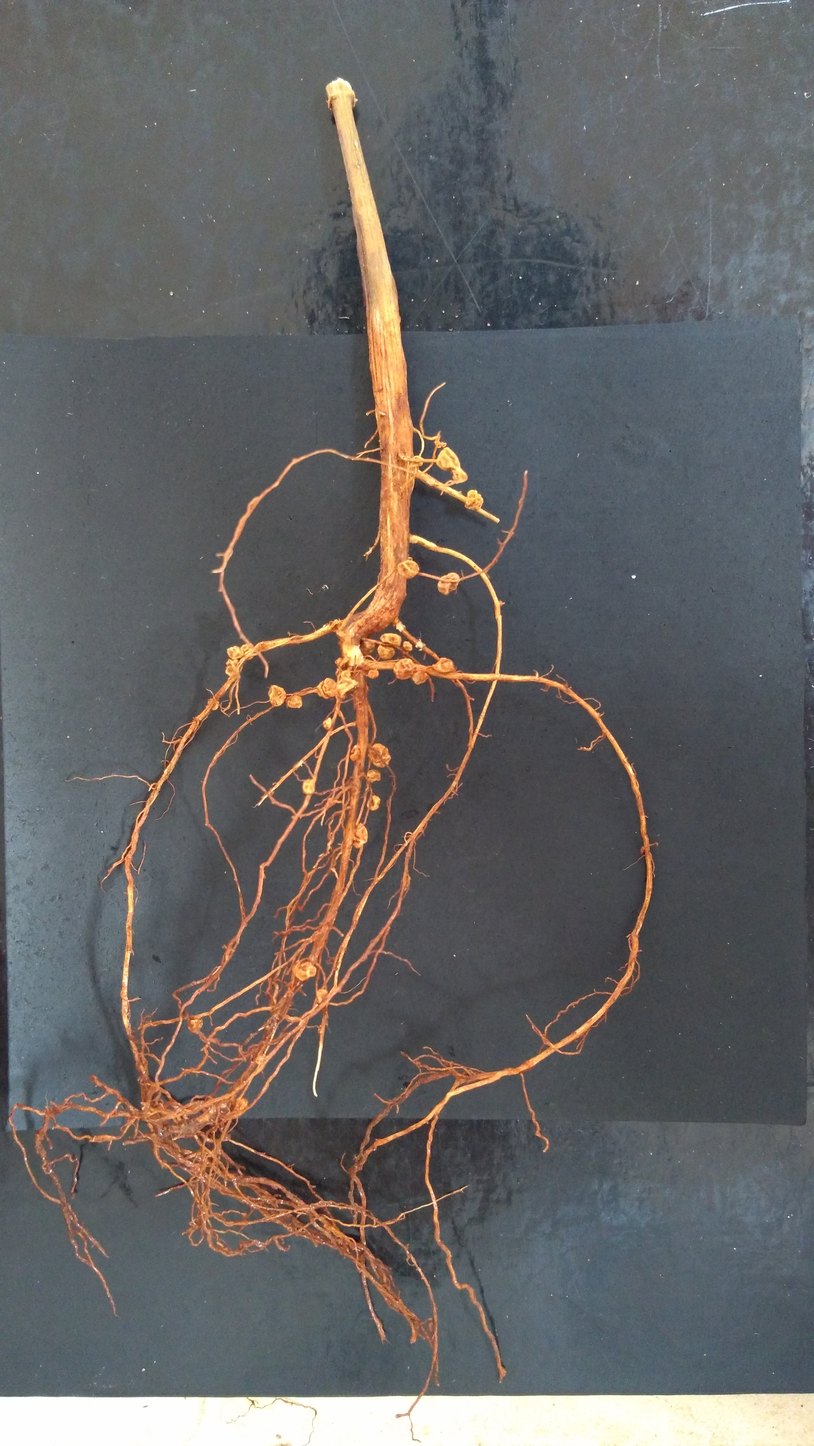nodule: (434, 445, 468, 485), (436, 570, 462, 598), (368, 740, 392, 769), (396, 558, 421, 581), (266, 683, 288, 708), (463, 488, 485, 512), (392, 656, 414, 680), (292, 961, 317, 981), (336, 676, 360, 696), (432, 654, 456, 673), (353, 822, 369, 848), (378, 631, 403, 647), (376, 643, 397, 661), (321, 676, 338, 698), (224, 658, 242, 678), (284, 693, 305, 710), (225, 645, 245, 661), (359, 638, 375, 657), (239, 642, 255, 661), (314, 680, 329, 700), (347, 741, 361, 762), (411, 669, 429, 685), (187, 1015, 203, 1032), (300, 777, 315, 795), (364, 794, 380, 809), (366, 767, 381, 782), (314, 988, 329, 1002), (206, 698, 221, 711), (402, 639, 414, 654), (320, 715, 332, 730), (236, 1094, 247, 1110), (255, 1052, 267, 1064), (339, 669, 352, 680), (367, 670, 379, 679)
